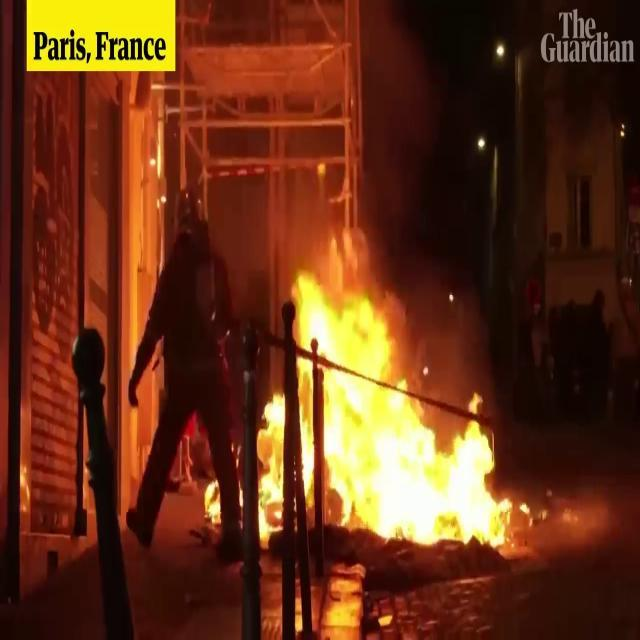Fire: (256, 234, 518, 556)
